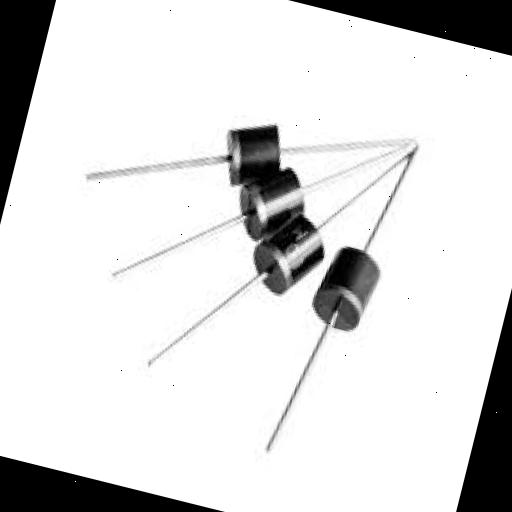DIODE: (292, 202, 420, 390), (226, 181, 350, 326), (192, 95, 318, 226), (214, 144, 330, 269)
